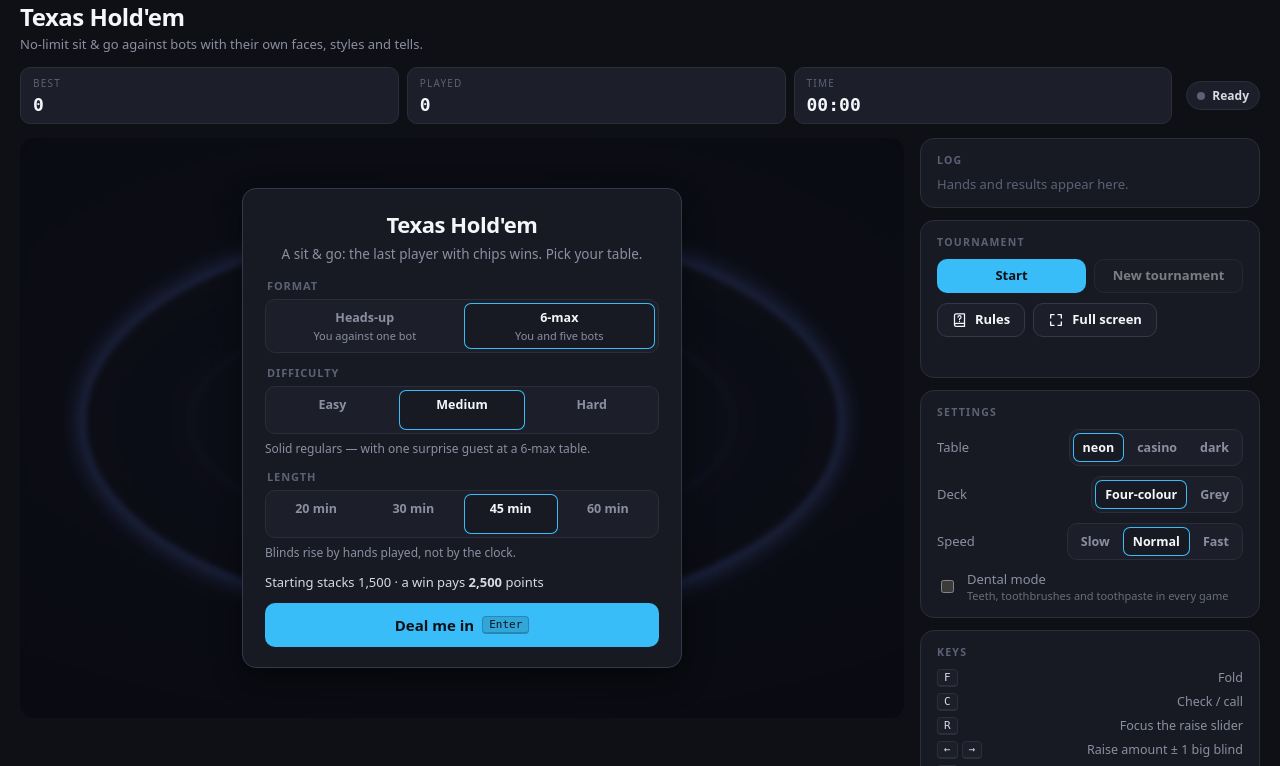
Test: <HoldemGame /> › “New tournament” mid-game asks first and records nothing
Click the button "Deal me in Enter" at coordinates (462, 625), box [265,603,659,647]
Wait 3000 ms
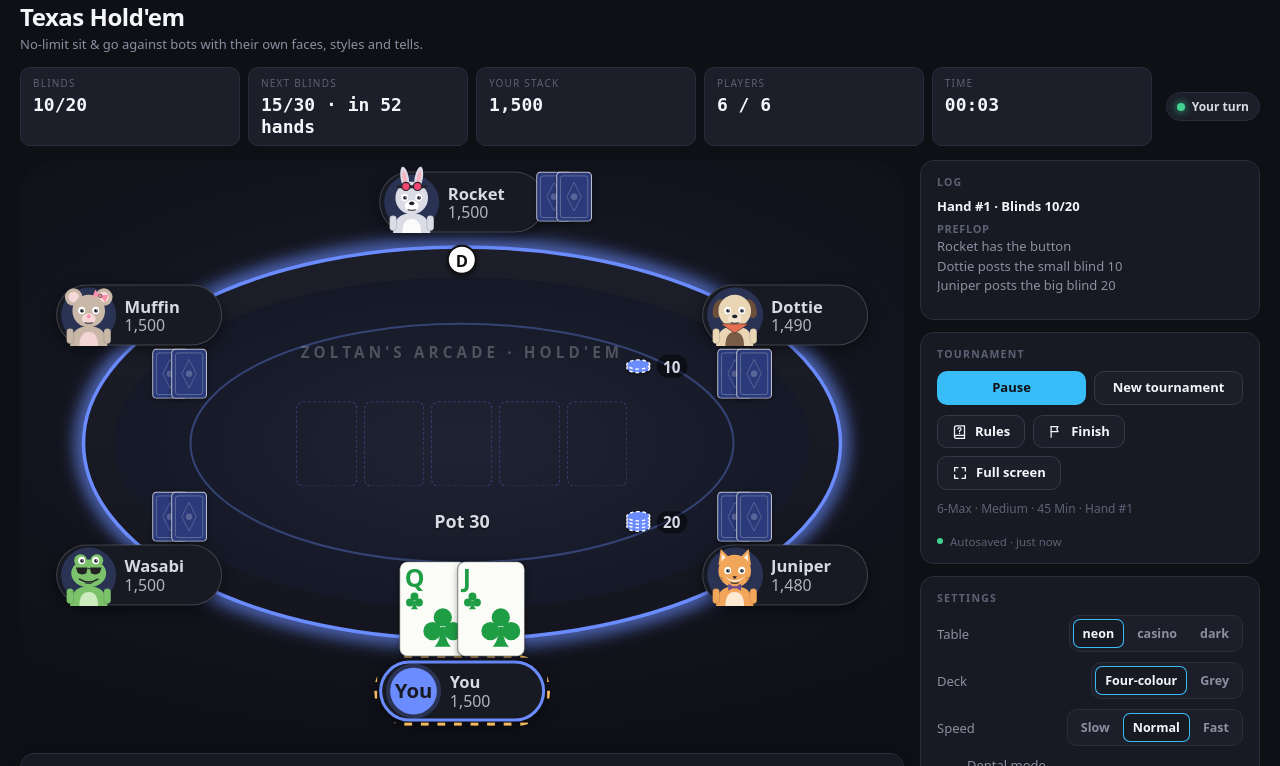
Click the button "New tournament" at coordinates (1168, 388), box [1094,371,1243,405]
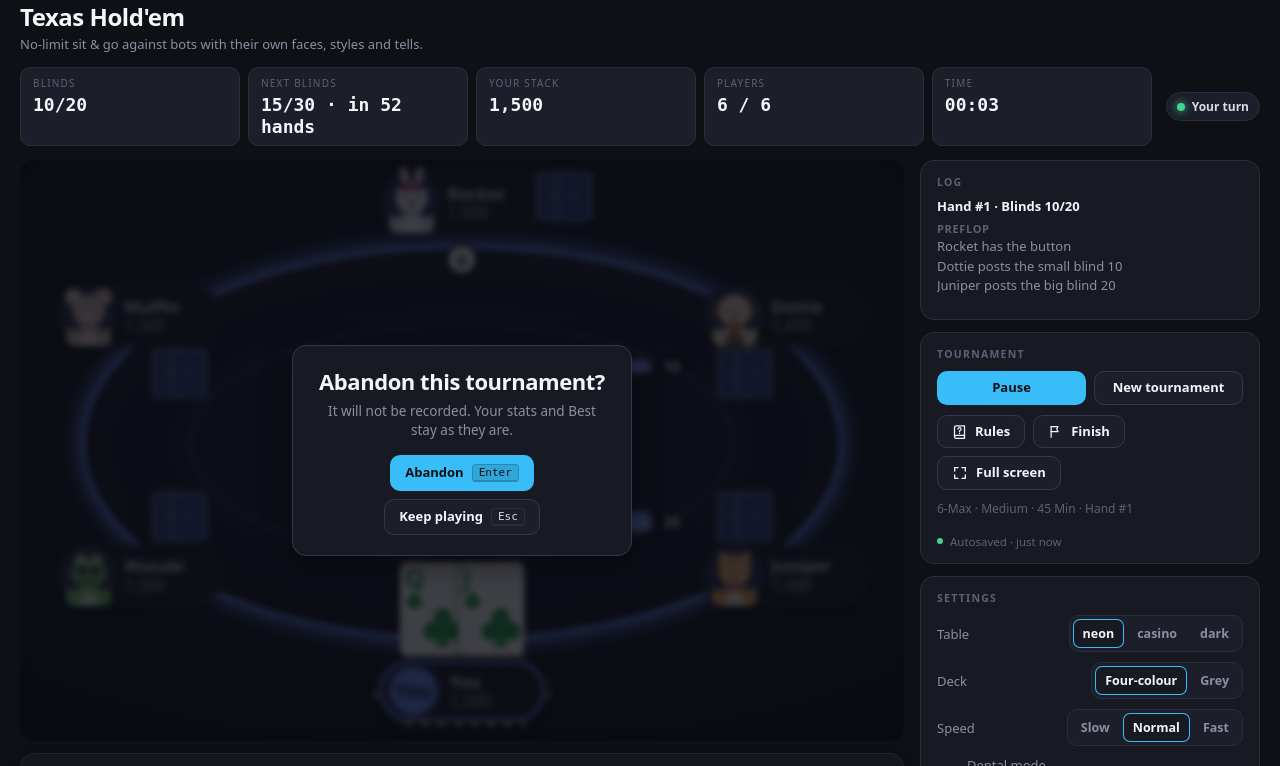
Result: the dialog "Abandon this tournament?" is shown at [20,160,904,740]
Click the button "Abandon Enter" at coordinates (462, 473), box [390,455,534,491]
Wait 10000 ms
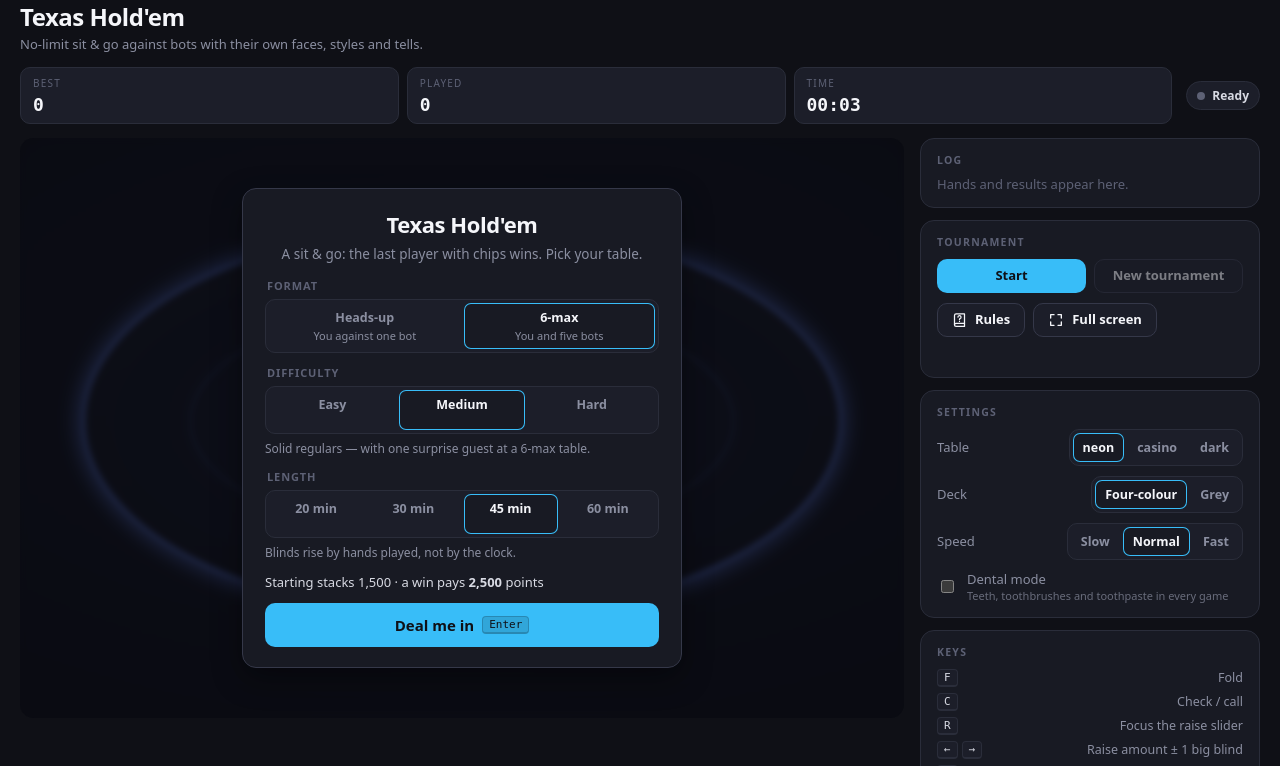
Result: the dialog named "New tournament" is shown at [20,138,904,718]
